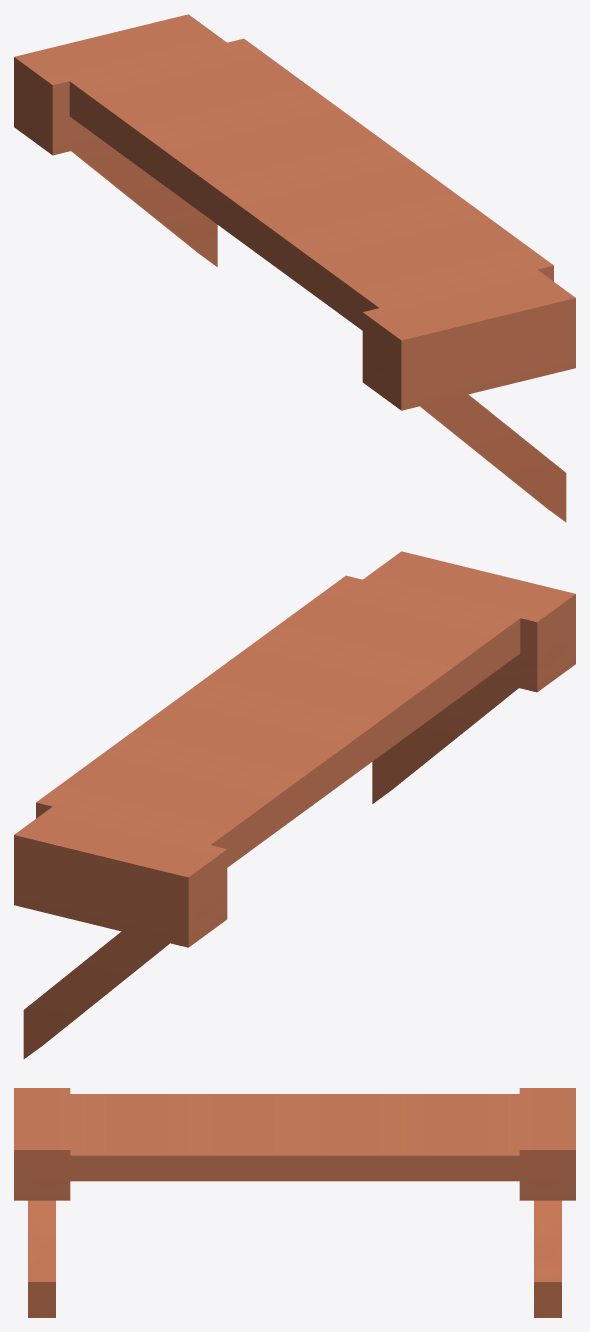
File: overhang.fbx
3 renders of one model, top to bottom at view 1: azimuth 30°, elevation 25°; view 2: azimuth 150°, elevation 25°; view 3: azimuth 270°, elevation 25°, orthographic. The views are drawn at different scales.
Parts seen in each view (by area): view 1: overhang; view 2: overhang; view 3: overhang.
Part boxes in pixels (x1,y1,x2,y2): overhang: (14,14,575,522); overhang: (14,551,575,1059); overhang: (14,1088,575,1317).
Size of the model in its own units: 0.285 by 1 by 0.33.
